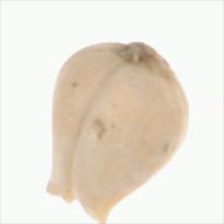L1: (43, 182, 110, 222), (117, 38, 164, 69)
L2: (46, 41, 189, 220)
